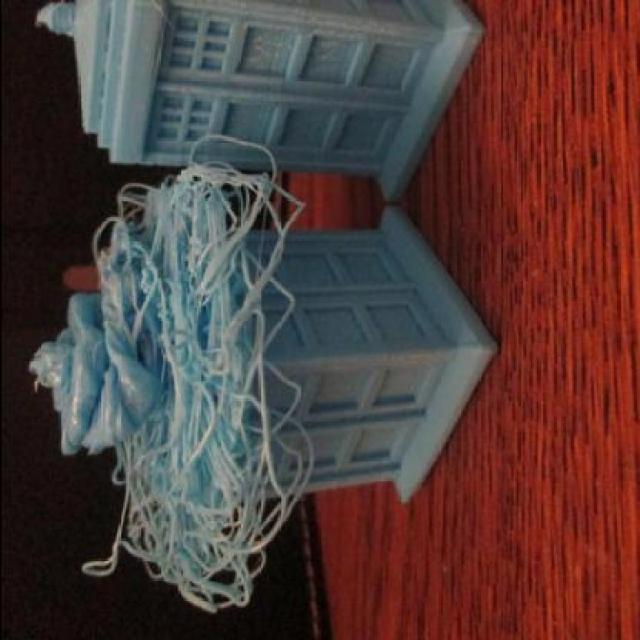Spaghetti: (21, 128, 321, 617)
